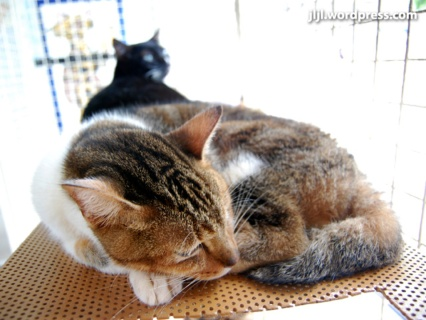Cat: (32, 100, 405, 307), (78, 29, 191, 122)
